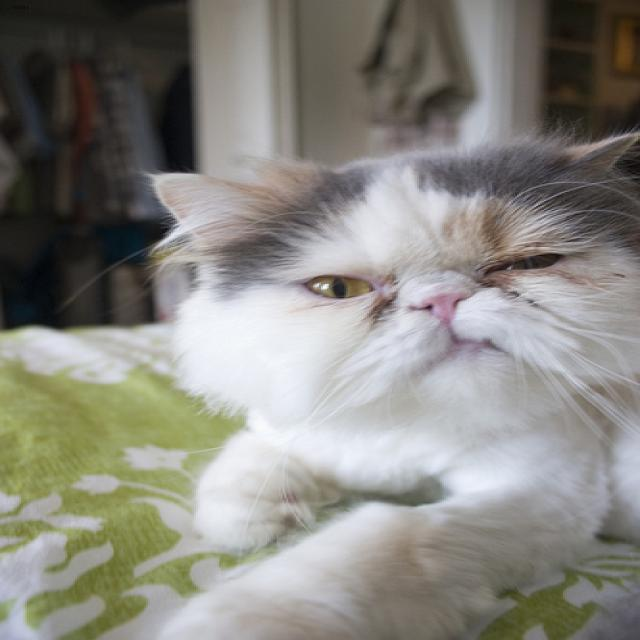Persian: (158, 132, 640, 436)
